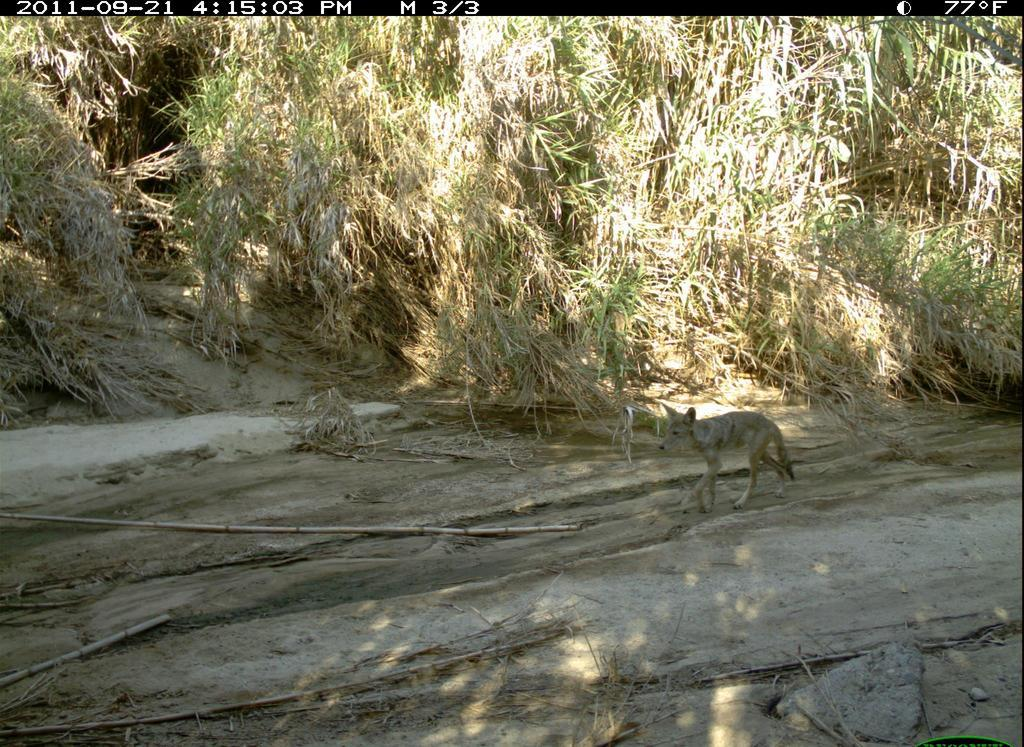coyote: (646, 391, 809, 525)
